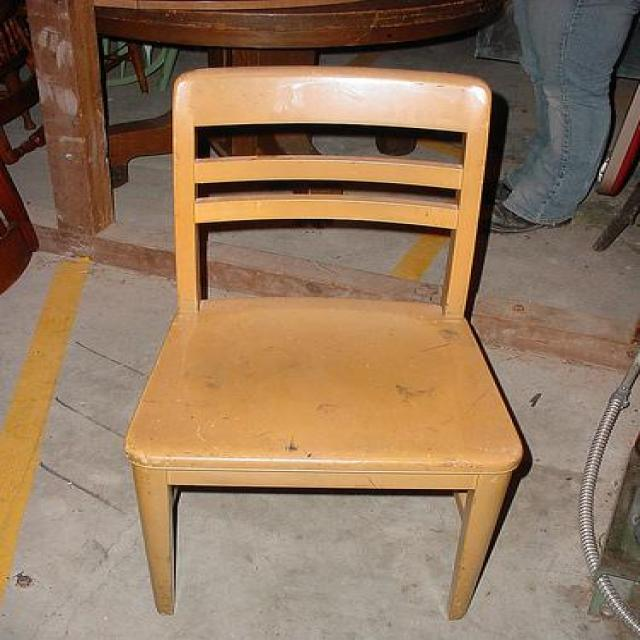chair: (121, 62, 533, 620)
